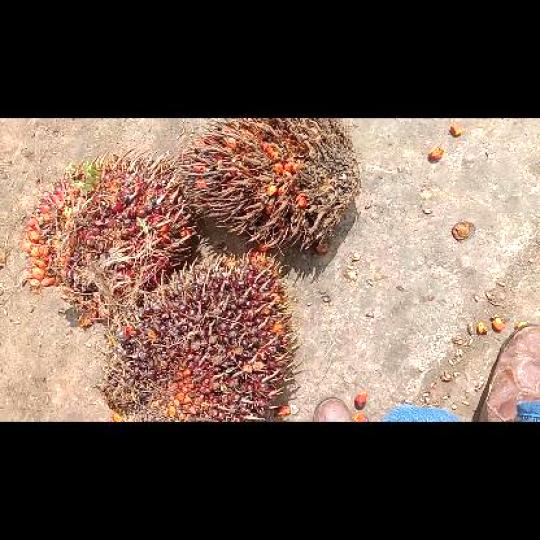kurang masak: (102, 252, 294, 418)
masak: (21, 154, 187, 326)
terlalu masak: (177, 118, 360, 253)
